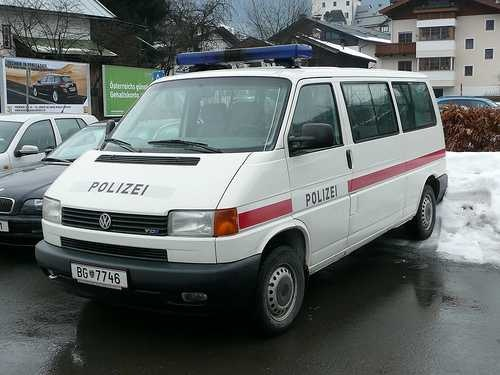Police Van: (59, 36, 459, 340)
